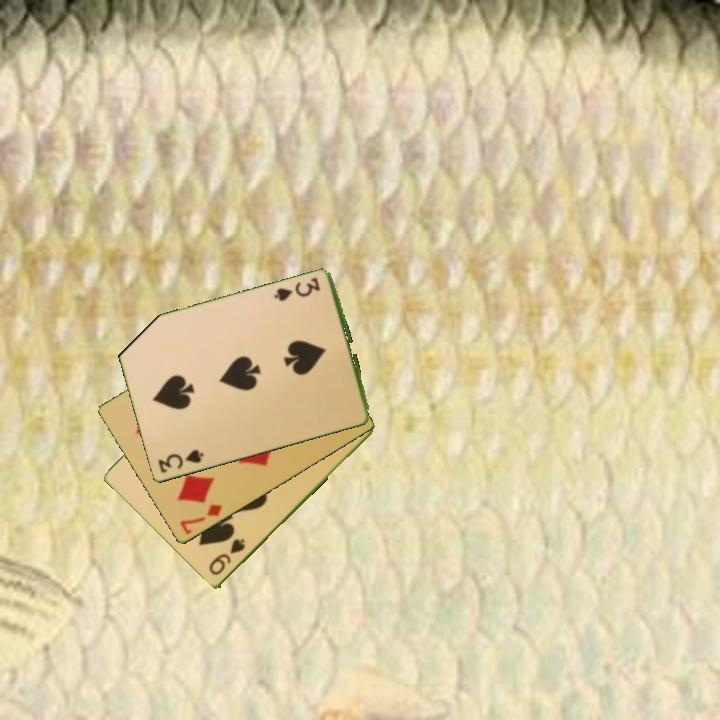3s: (154, 446, 206, 476), (273, 274, 323, 305)
7d: (176, 501, 225, 537)
9s: (205, 535, 248, 579)
